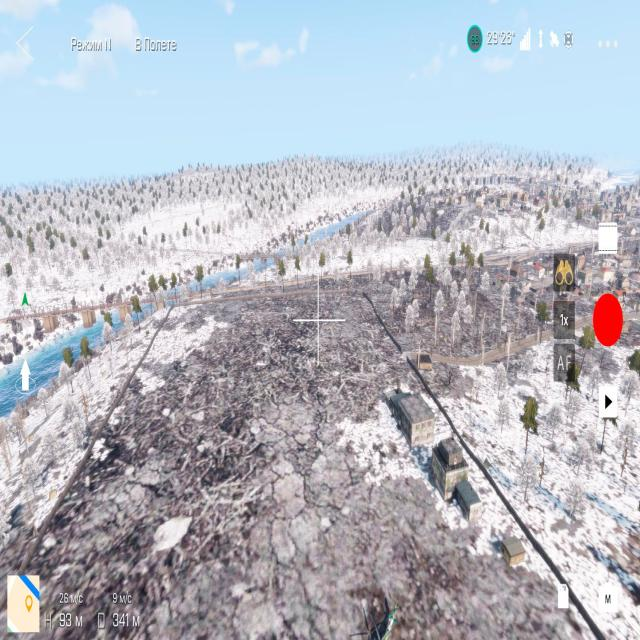fortification: (428, 429, 483, 526), (386, 379, 436, 455), (496, 523, 533, 578), (412, 342, 436, 374)
vehicle: (360, 584, 406, 640)
